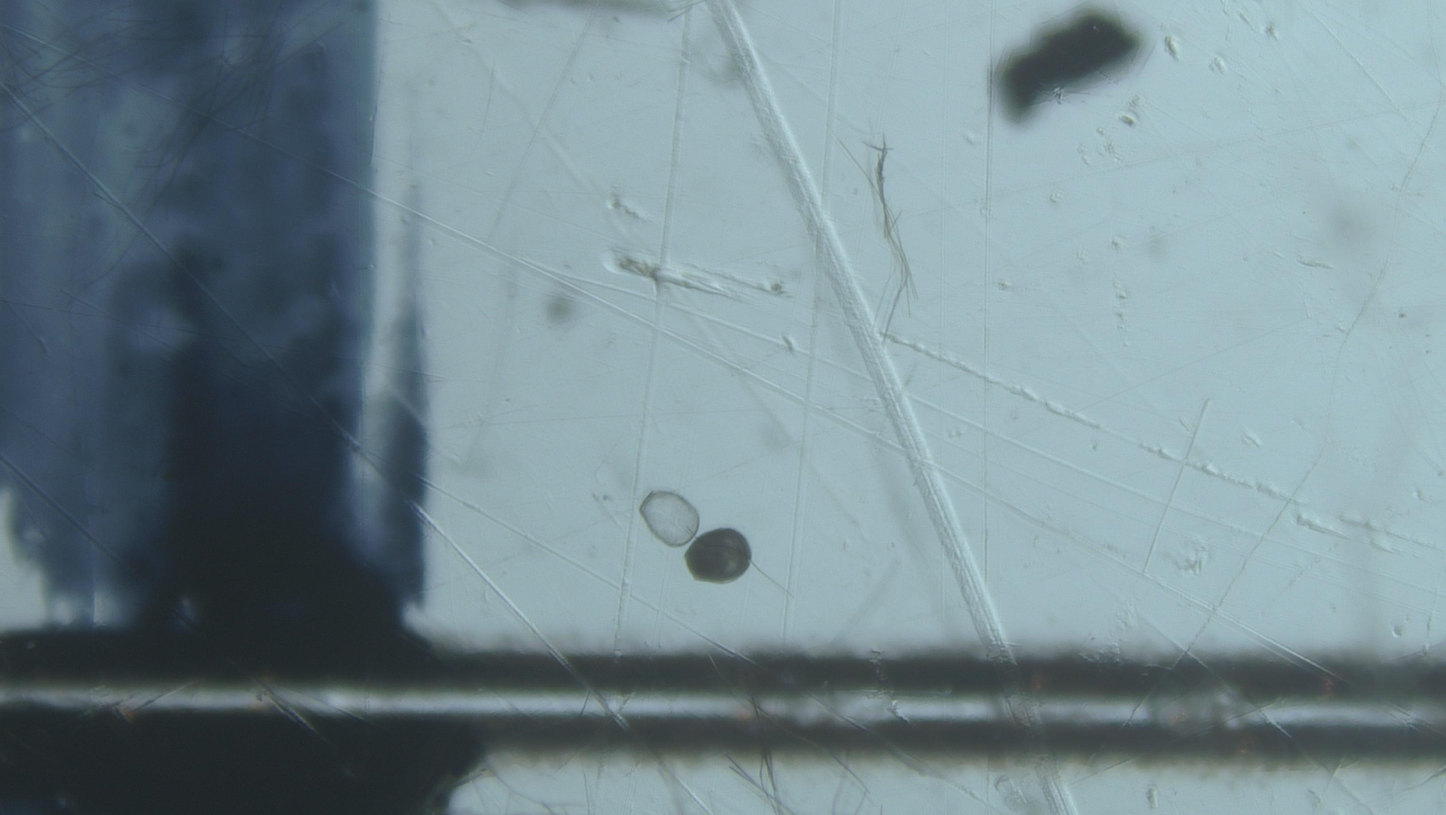dead: (640, 492, 700, 547)
live: (684, 529, 752, 584)
